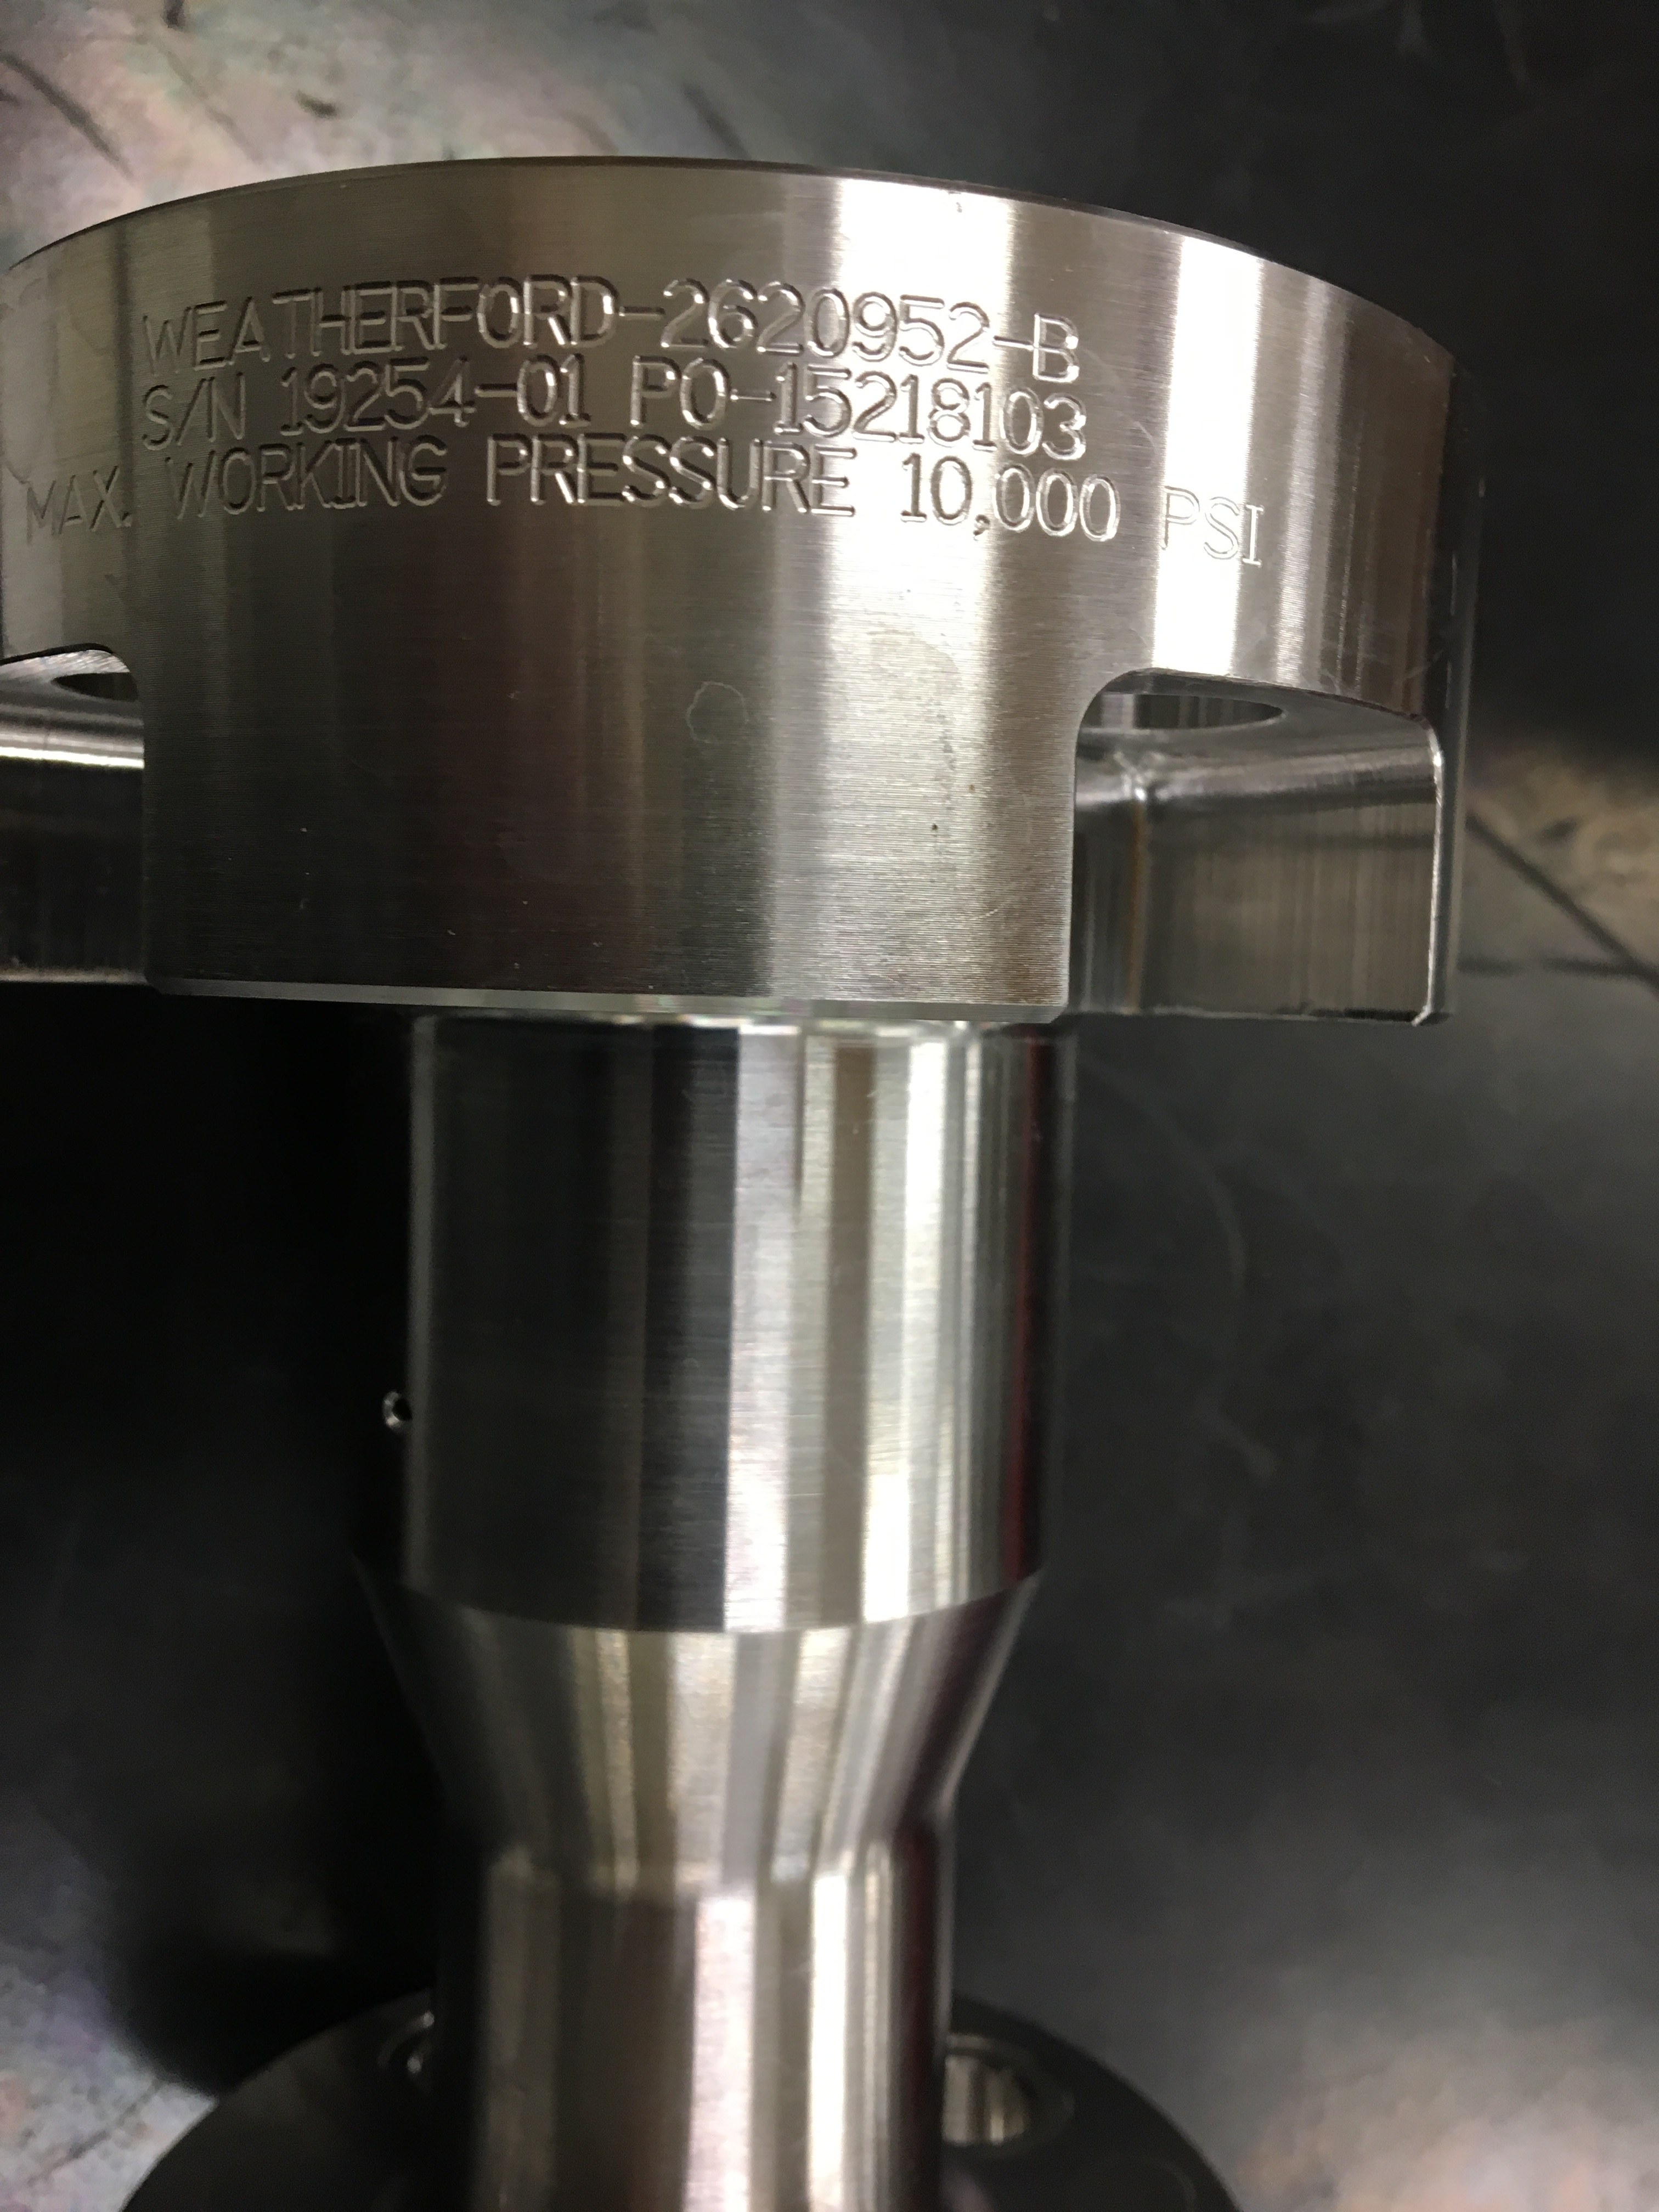character: (1021, 298, 1089, 392), (746, 272, 805, 364), (518, 265, 573, 354), (159, 442, 220, 521), (655, 273, 713, 355), (800, 277, 854, 364), (525, 425, 579, 510), (711, 432, 767, 514), (622, 354, 681, 430), (471, 270, 525, 354), (385, 275, 439, 357), (943, 287, 992, 378), (762, 432, 810, 523), (568, 268, 619, 352), (479, 430, 530, 514), (664, 430, 716, 510), (511, 348, 565, 425), (303, 280, 354, 362), (676, 354, 728, 432), (397, 437, 450, 516), (852, 279, 901, 362), (807, 441, 856, 524), (352, 435, 401, 517), (798, 368, 854, 439), (847, 369, 897, 448), (1040, 385, 1091, 463), (620, 432, 671, 510), (134, 307, 192, 373), (894, 287, 945, 362), (382, 357, 432, 432), (1072, 467, 1121, 543), (296, 432, 340, 517), (709, 273, 755, 355), (253, 435, 298, 517), (573, 428, 619, 510), (352, 266, 392, 359), (340, 357, 387, 435), (617, 273, 664, 350), (270, 279, 310, 368), (434, 268, 474, 357), (929, 451, 976, 526), (186, 294, 230, 374), (427, 352, 471, 432), (986, 463, 1035, 535), (1030, 467, 1079, 538), (728, 362, 777, 432), (225, 296, 272, 368), (999, 385, 1046, 456), (1201, 486, 1241, 570), (213, 442, 258, 516), (925, 378, 972, 448), (1155, 482, 1202, 552), (16, 477, 64, 543), (471, 354, 516, 423), (301, 364, 345, 434), (85, 467, 131, 533), (206, 376, 247, 446), (173, 376, 209, 453), (997, 296, 1033, 371), (556, 352, 591, 430), (138, 380, 176, 449), (896, 369, 931, 444), (969, 380, 1004, 455), (1239, 496, 1274, 570), (272, 364, 305, 439), (329, 432, 357, 516), (59, 470, 91, 543), (897, 449, 929, 523), (772, 364, 798, 437)
